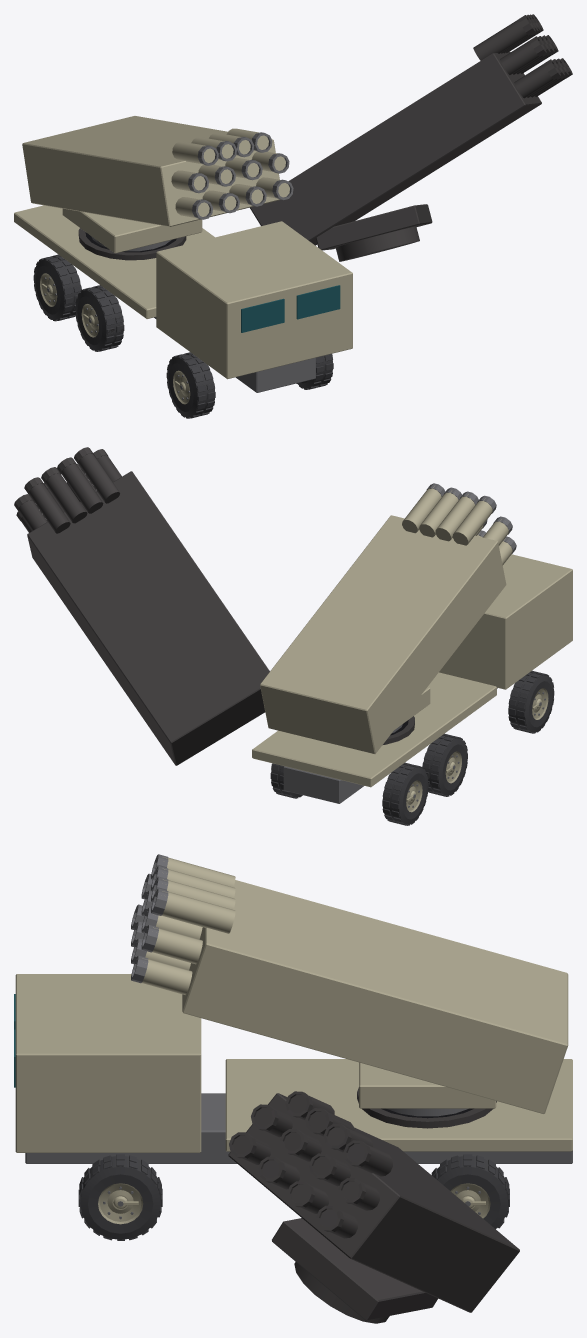
The model's file is mlrs__fajr_5.glb.
3 renders of one model, top to bottom at view 1: azimuth 30°, elevation 25°; view 2: azimuth 150°, elevation 25°; view 3: azimuth 270°, elevation 25°, orthographic. The views are drawn at different scales.
Visible parts, largest first — view 1: Hull_Mesh, Wreck, Gun_Mesh, Turret_Mesh, Wheel_L1_Mesh, Wheel_L2_Mesh, Wheel_L0_Mesh, Wheel_R2_Mesh; view 2: Wreck, Gun_Mesh, Hull_Mesh, Wheel_L0_Mesh, Wheel_L2_Mesh, Wheel_L1_Mesh, Wheel_R0_Mesh; view 3: Gun_Mesh, Hull_Mesh, Wreck, Wheel_R2_Mesh, Turret_Mesh, Wheel_R0_Mesh.
Part boxes in pixels (bbox=[...]): Hull_Mesh: bbox=[14, 205, 352, 392]; Wreck: bbox=[78, 14, 572, 416]; Gun_Mesh: bbox=[22, 116, 293, 226]; Turret_Mesh: bbox=[62, 208, 202, 253]; Wheel_L1_Mesh: bbox=[75, 285, 124, 351]; Wheel_L2_Mesh: bbox=[166, 352, 215, 418]; Wheel_L0_Mesh: bbox=[33, 254, 81, 321]; Wheel_R2_Mesh: bbox=[296, 354, 333, 389]; Wreck: bbox=[14, 447, 540, 824]; Gun_Mesh: bbox=[260, 483, 516, 753]; Hull_Mesh: bbox=[252, 554, 572, 803]; Wheel_L0_Mesh: bbox=[382, 762, 428, 825]; Wheel_L2_Mesh: bbox=[508, 670, 554, 733]; Wheel_L1_Mesh: bbox=[422, 733, 467, 796]; Wheel_R0_Mesh: bbox=[270, 763, 302, 798]; Gun_Mesh: bbox=[131, 854, 568, 1113]; Hull_Mesh: bbox=[14, 974, 572, 1163]; Wreck: bbox=[228, 1087, 519, 1323]; Wheel_R2_Mesh: bbox=[78, 1154, 162, 1240]; Turret_Mesh: bbox=[359, 1062, 496, 1116]; Wheel_R0_Mesh: bbox=[431, 1154, 509, 1228].
Size of what is drawn, in the model's own units: 8.79 by 4.45 by 6.92.
